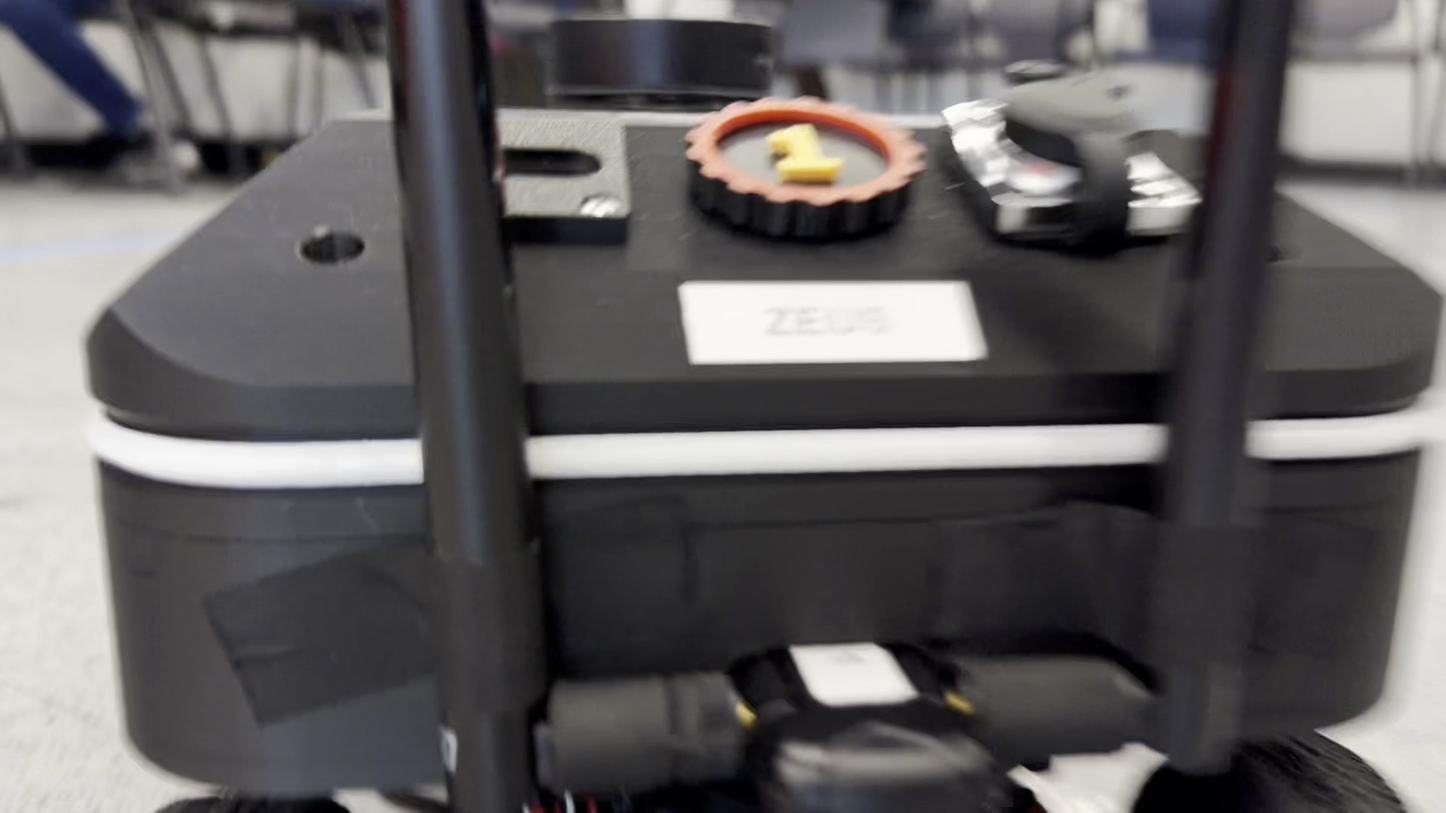racecar: (109, 4, 1399, 813)
